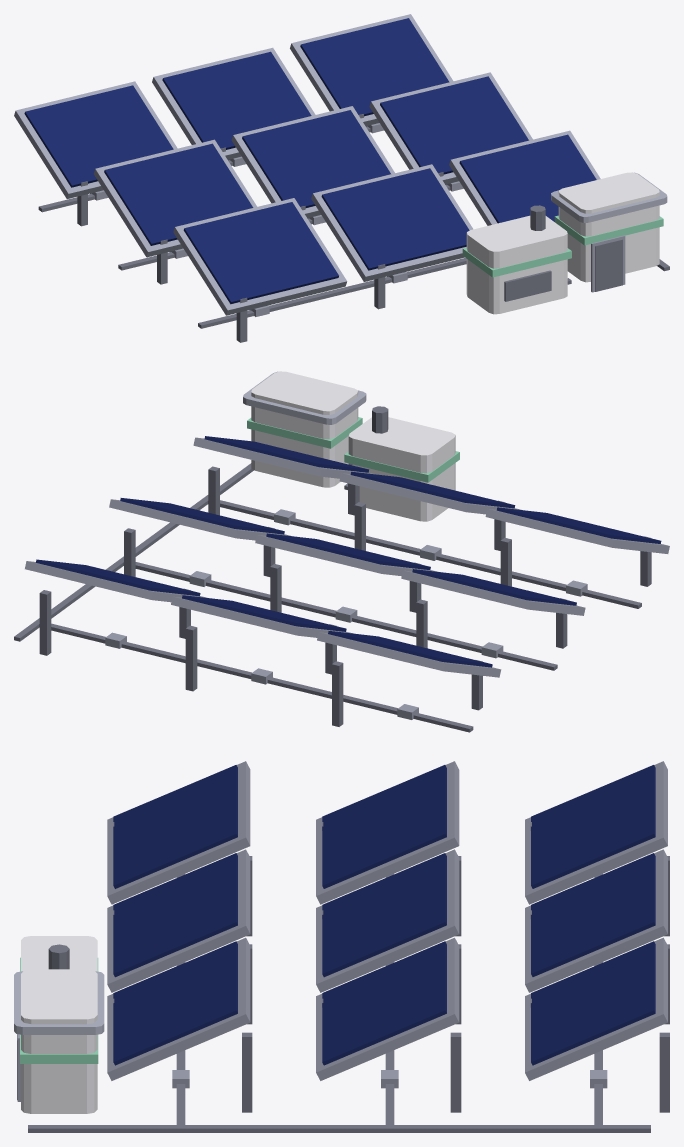
The model's file is solar-2x2-t2.glb.
The picture shows the model from 3 angles, top to bottom: view 1: azimuth 30°, elevation 25°; view 2: azimuth 150°, elevation 25°; view 3: azimuth 270°, elevation 25°; orthographic projection. The views are drawn at different scales.
Visible parts, largest first — view 1: solar-2x2-t2; view 2: solar-2x2-t2; view 3: solar-2x2-t2.
Part boxes in pixels (x1,y1,x2,y2): solar-2x2-t2: [14, 14, 669, 342]; solar-2x2-t2: [14, 371, 669, 732]; solar-2x2-t2: [14, 761, 669, 1132].
Bounding box in the file's own units: 1.79 × 0.3435 × 1.88.
Materials: 1 (1 with a texture image).
